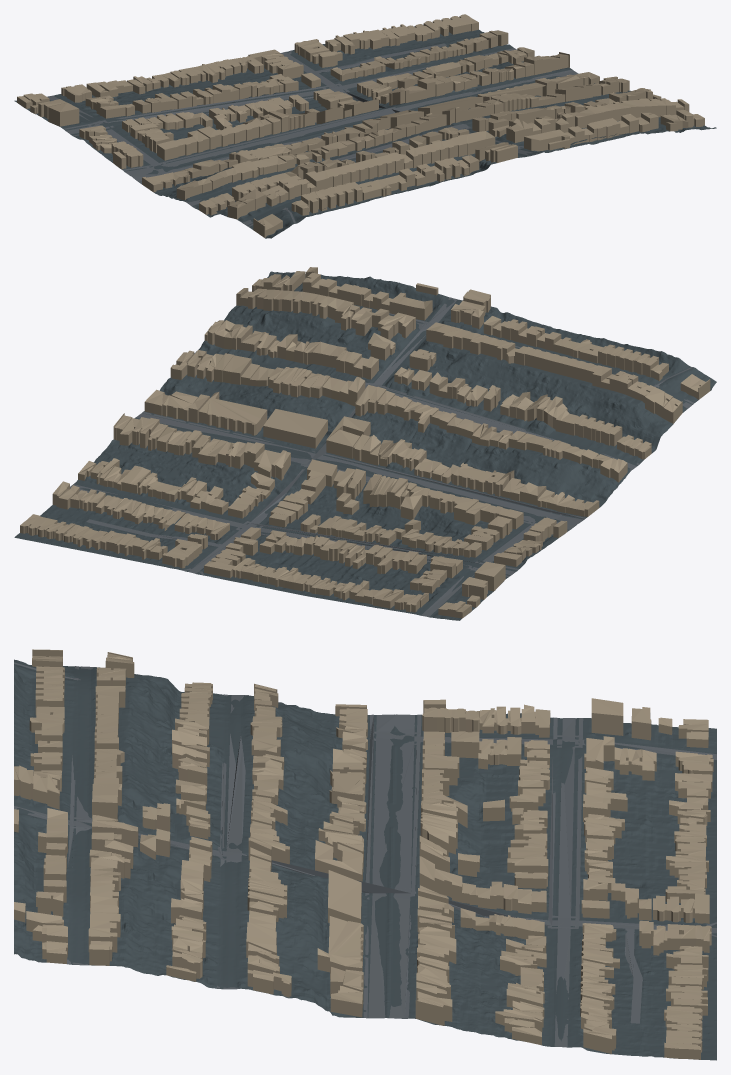
Rendered from epsg26910-1429-10875.lod0.glb.
3 views of the same model, one above another, from view 1: azimuth 30°, elevation 25°; view 2: azimuth 150°, elevation 25°; view 3: azimuth 270°, elevation 25° (orthographic). The views are drawn at different scales.
Parts seen in each view (by area): view 1: epsg26910-1429-10875-lod0; view 2: epsg26910-1429-10875-lod0; view 3: epsg26910-1429-10875-lod0.
Boxes of the visible parts, x1,y1,x2,y2 form: epsg26910-1429-10875-lod0: [14, 14, 716, 238]; epsg26910-1429-10875-lod0: [14, 267, 716, 620]; epsg26910-1429-10875-lod0: [14, 649, 716, 1060].
Bounding box in the file's own units: 384 × 89.28 × 384.
